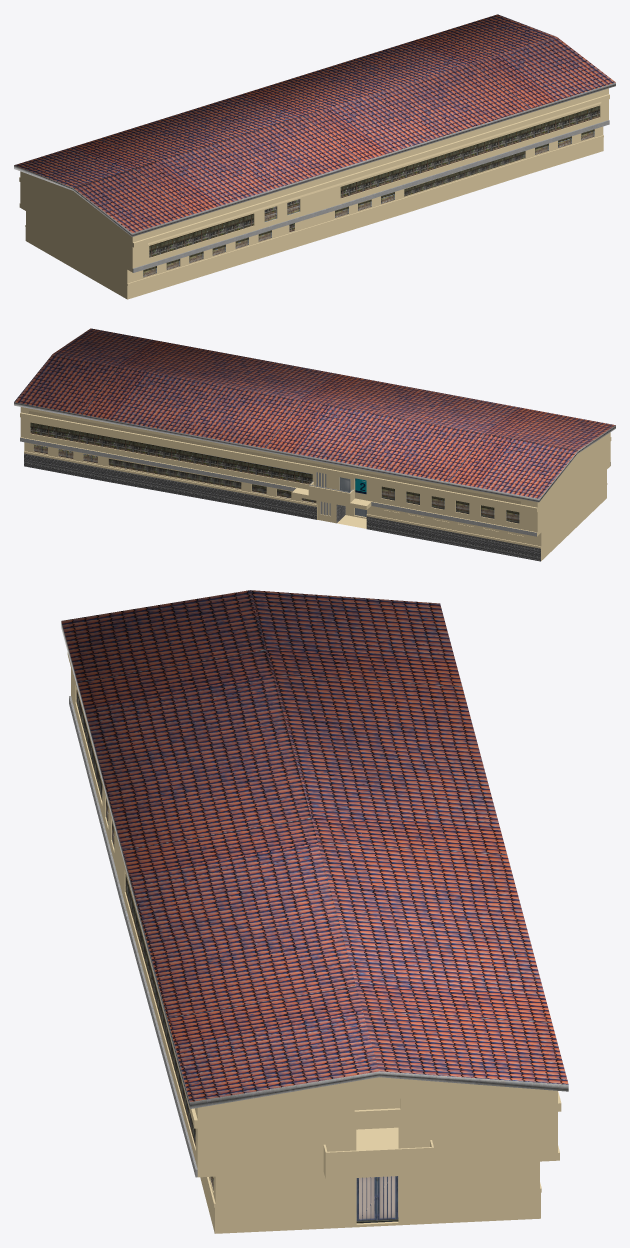
File: bloque_2.fbx
3 views of the same model, one above another, from view 1: azimuth 30°, elevation 25°; view 2: azimuth 150°, elevation 25°; view 3: azimuth 270°, elevation 25° (orthographic). The views are drawn at different scales.
Parts seen in each view (by area): view 1: polySurface2160, polySurface2158; view 2: polySurface2160, polySurface2158, polySurface2157; view 3: polySurface2160, polySurface2158, polySurface2159.
Boxes of the visible parts, x1,y1,x2,y2 form: polySurface2160: (14,14,615,236); polySurface2158: (19,88,609,299); polySurface2160: (14,328,615,502); polySurface2158: (20,407,611,561); polySurface2157: (292,482,370,509); polySurface2160: (61,590,568,1108); polySurface2158: (67,652,561,1233); polySurface2159: (323,1140,433,1179).
Bounding box in the file's own units: 6.38 × 0.9498 × 2.74.
